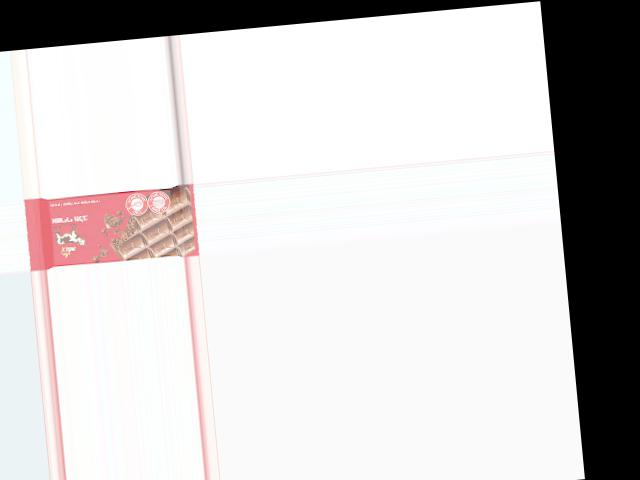chocolate: (22, 183, 197, 270)
